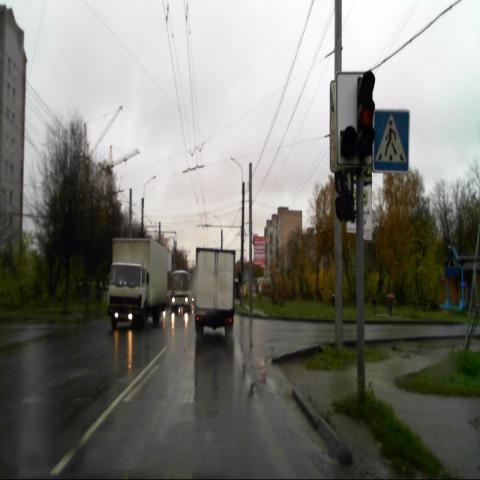5_19_1: (373, 109, 409, 172)
